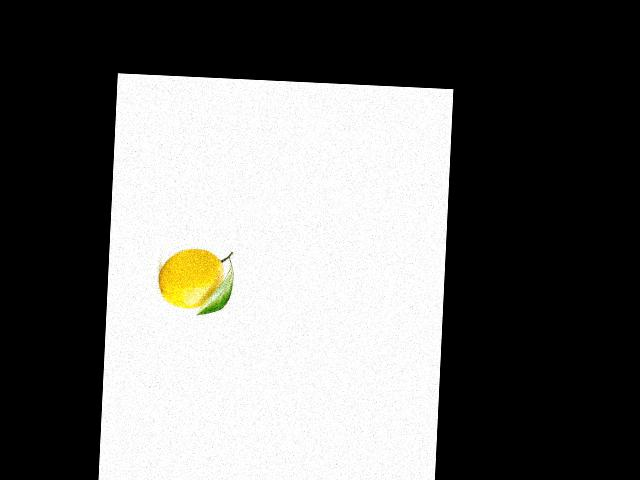lemon: (152, 242, 230, 313)
